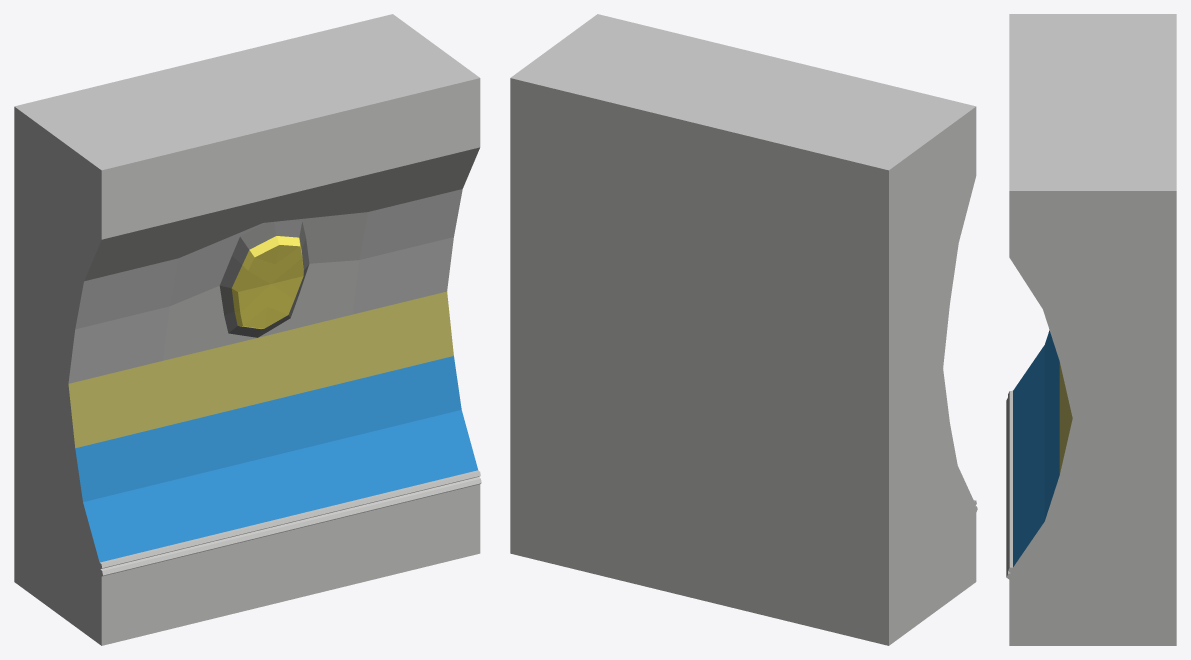
File: SM_HalfWall_Var2.fbx
The picture shows the model from 3 angles, left to right: view 1: azimuth 30°, elevation 25°; view 2: azimuth 150°, elevation 25°; view 3: azimuth 270°, elevation 25°; orthographic projection. The views are drawn at different scales.
Parts seen in each view (by area): view 1: SM_Wall_HalfEdge_Var1.001; view 2: SM_Wall_HalfEdge_Var1.001; view 3: SM_Wall_HalfEdge_Var1.001.
Boxes of the visible parts, x1,y1,x2,y2 form: SM_Wall_HalfEdge_Var1.001: (14, 14, 481, 645); SM_Wall_HalfEdge_Var1.001: (510, 14, 977, 645); SM_Wall_HalfEdge_Var1.001: (1006, 14, 1176, 645).
Bounding box in the file's own units: 500 × 600 × 203.
